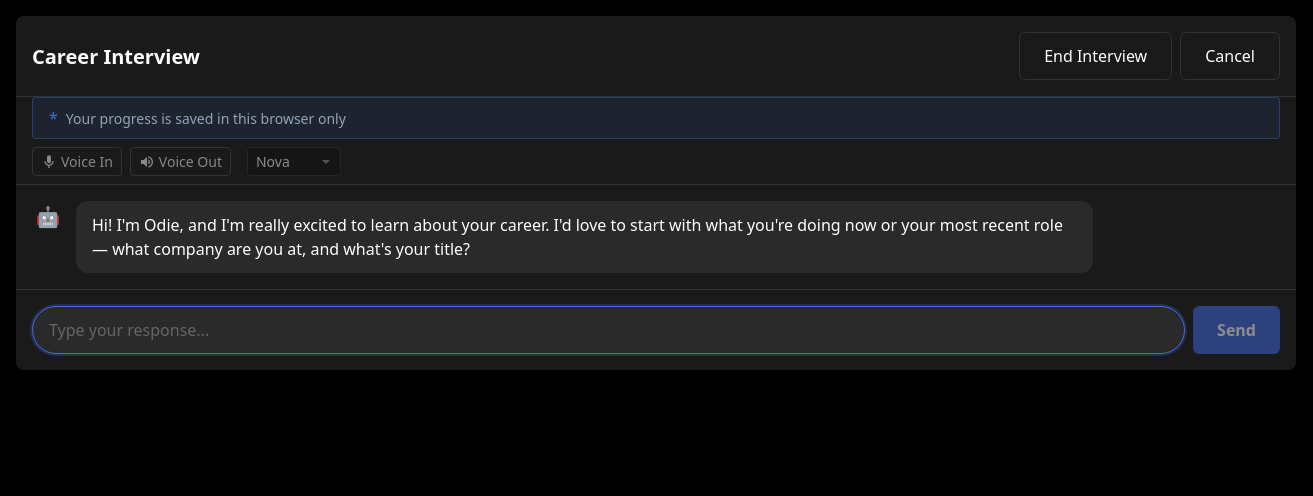
Test: InterviewChat Phase 2 streaming changes › error event handling › clears streaming text on error and re-enables input
The image size is (1313, 496).
In the field with test id "interview-input": (609,330) [32,306,1185,354], type "Error cleanup test"
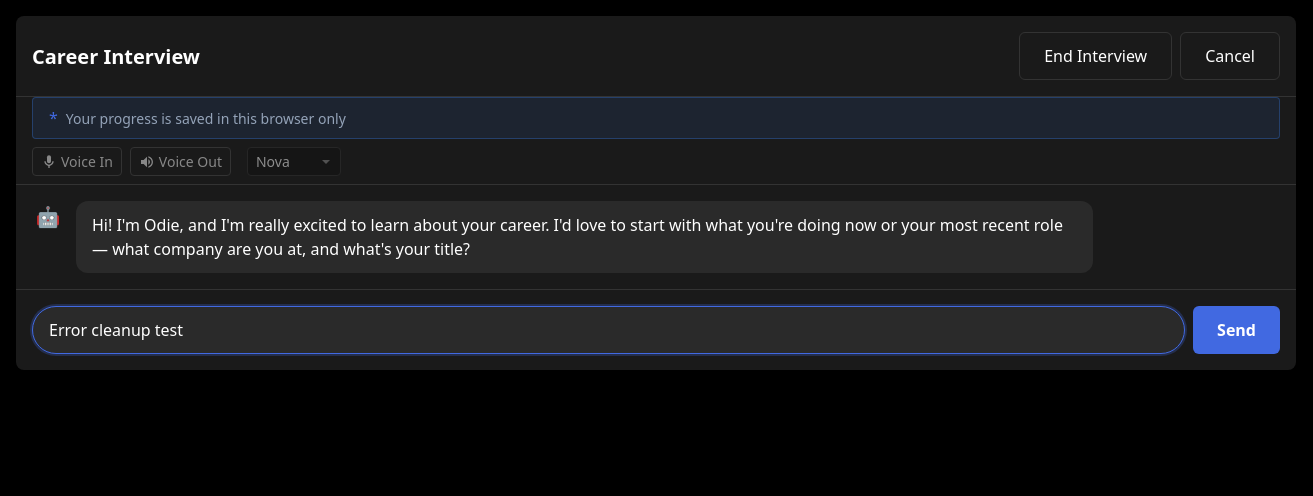
Click the button with test id "interview-send": (1237,330) [1193,306,1280,354]
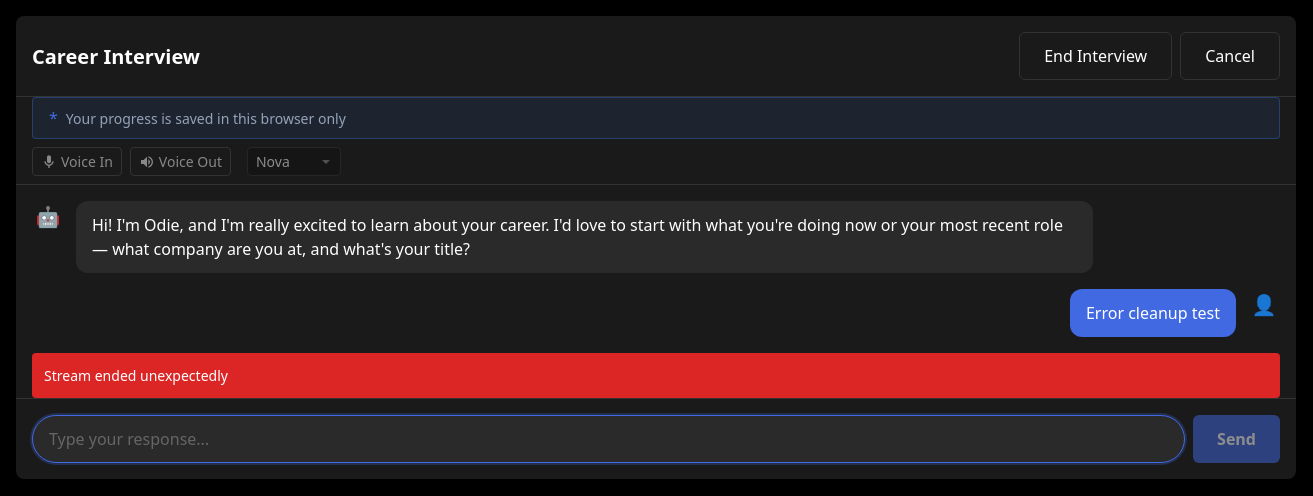
Expected: the field with test id "interview-input" is enabled, [32,415,1185,463]
Now the text "Stream ended unexpectedly" is shown, box [32,353,1280,398]
